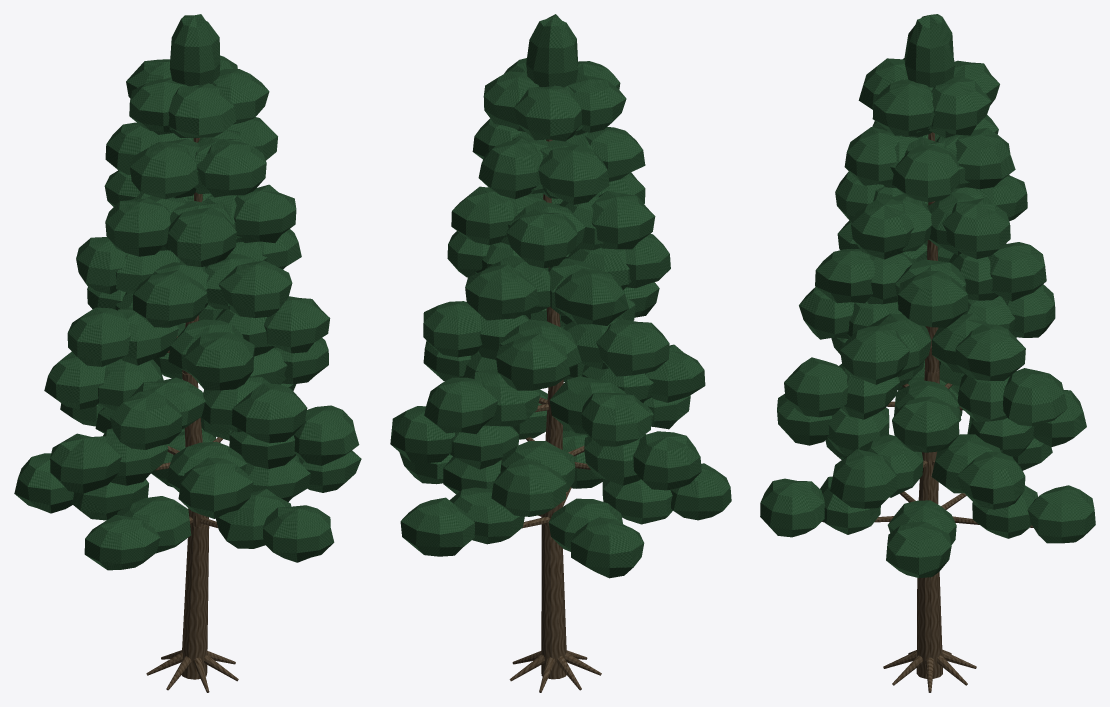
3 renders of one model, left to right at view 1: azimuth 30°, elevation 25°; view 2: azimuth 150°, elevation 25°; view 3: azimuth 270°, elevation 25°, orthographic.
Visible parts, largest first — view 1: pine; view 2: pine; view 3: pine.
Boxes of the visible parts, <box> form: pine: <box>14,14,361,692</box>; pine: <box>390,14,731,692</box>; pine: <box>760,14,1095,692</box>.
Bounding box in the file's own units: 6.21 × 13.09 × 6.04.
Materials: 2 (2 with a texture image).
